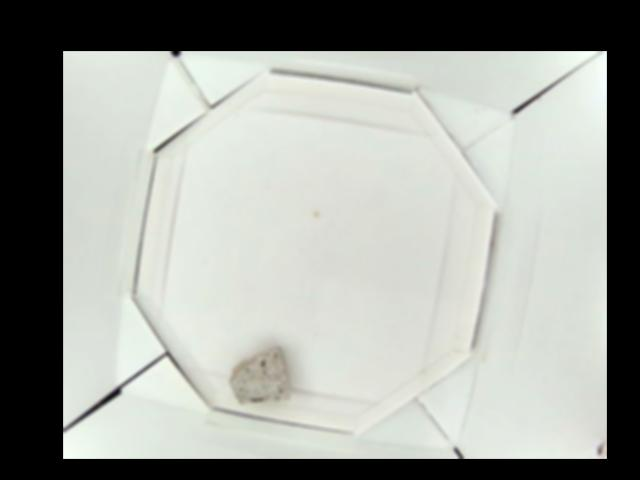China: (227, 348, 289, 405)
